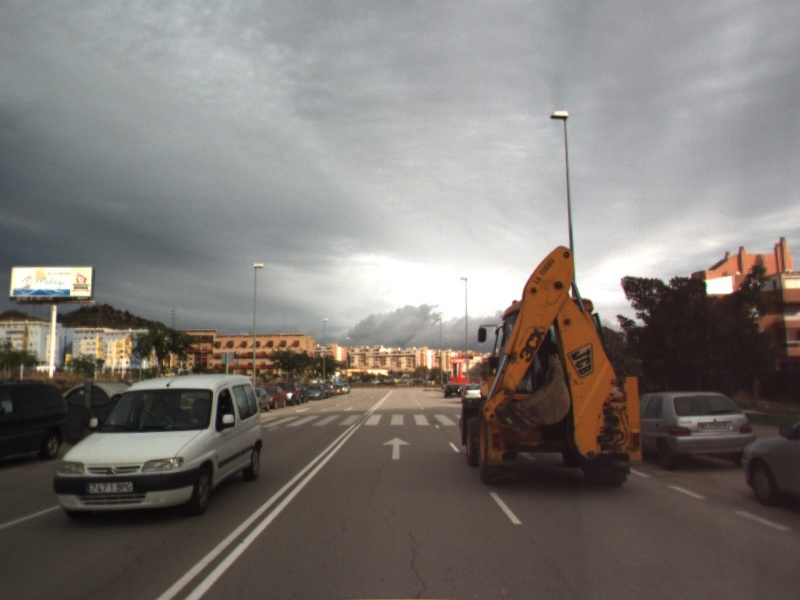STRAIGHT: (380, 435, 412, 461)
